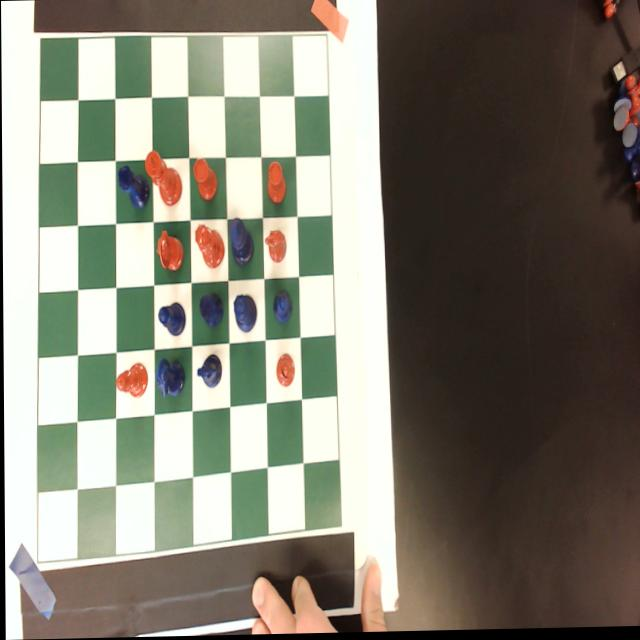B: (156, 300, 184, 338), (270, 286, 292, 328)
K: (227, 217, 254, 270)
N: (154, 357, 184, 400), (195, 353, 221, 389)
Q: (231, 294, 256, 334)
R: (114, 162, 149, 213), (197, 288, 223, 331)
b: (112, 362, 148, 400), (274, 351, 295, 390)
k: (143, 148, 181, 207)
n: (153, 227, 183, 278), (262, 228, 287, 266)
q: (193, 223, 224, 270)
r: (190, 155, 218, 204), (264, 160, 286, 206)
